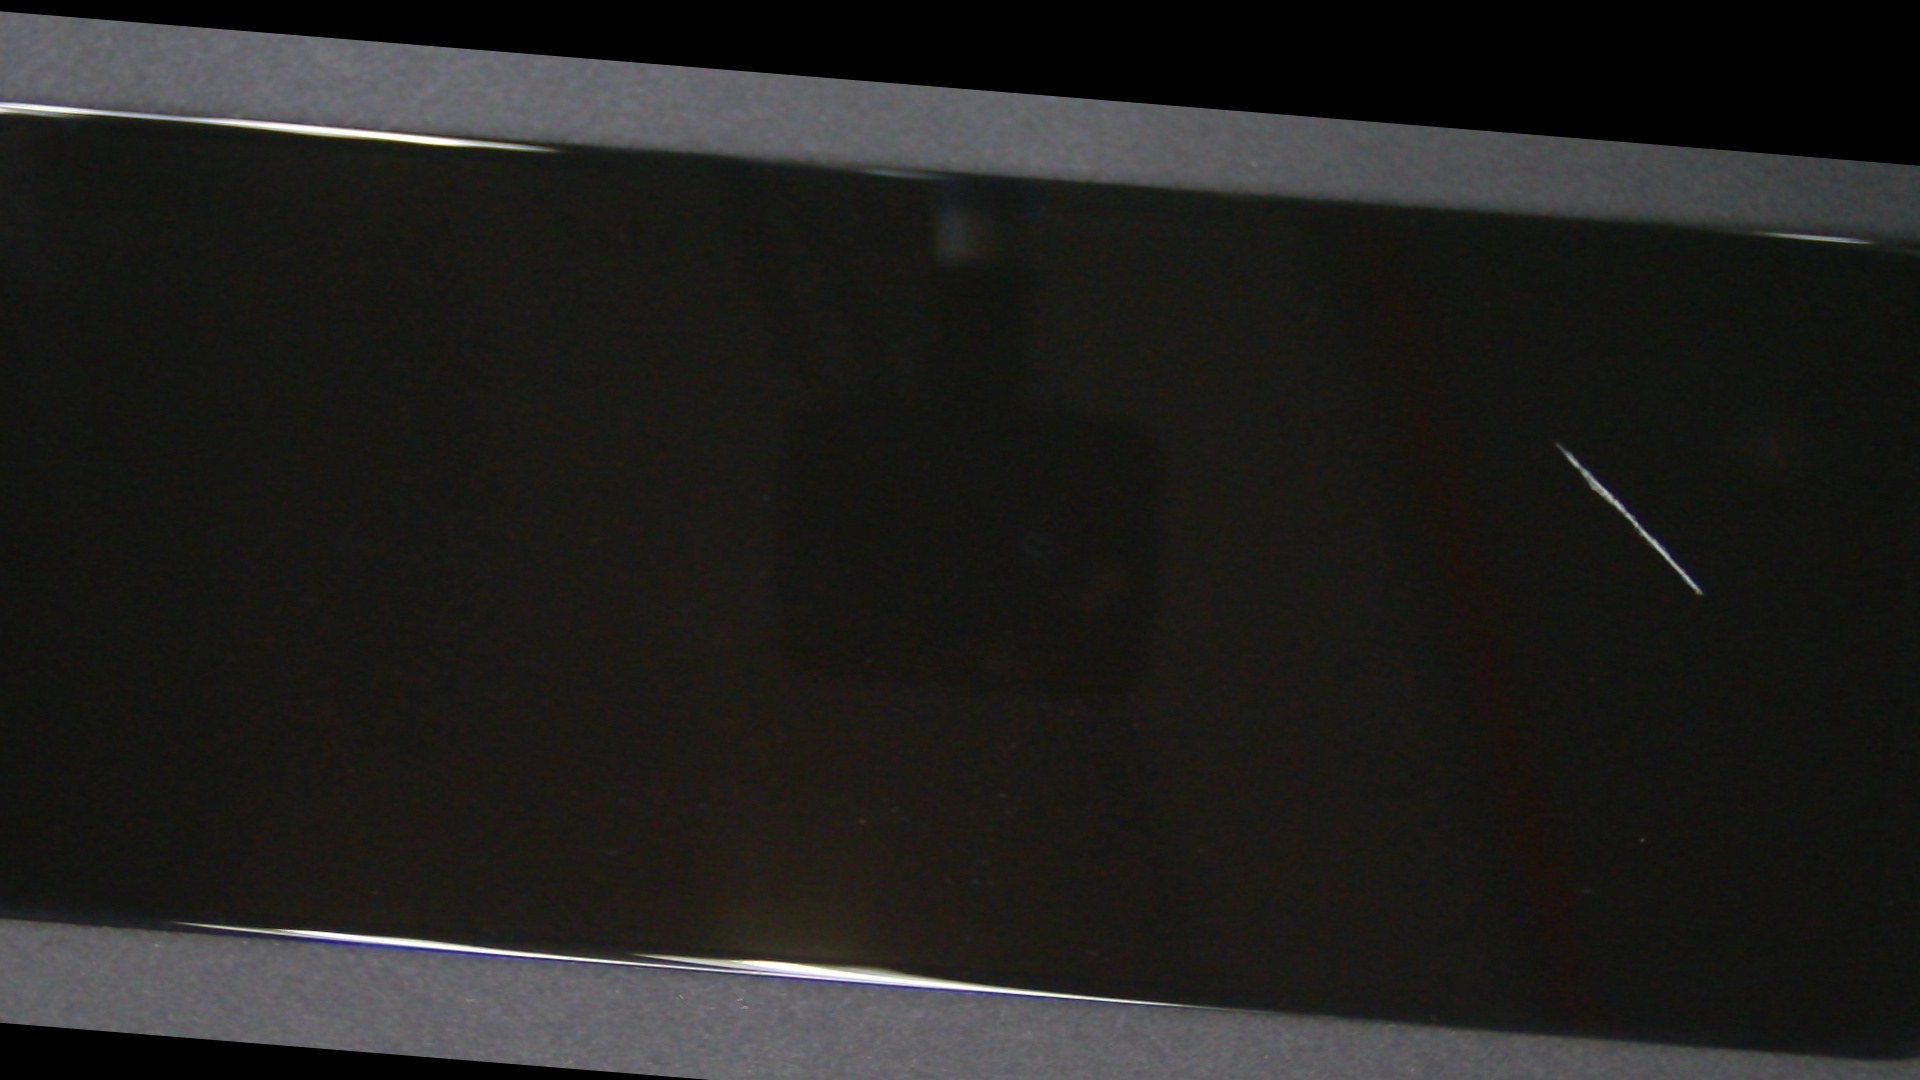oil: (675, 219, 1920, 633)
